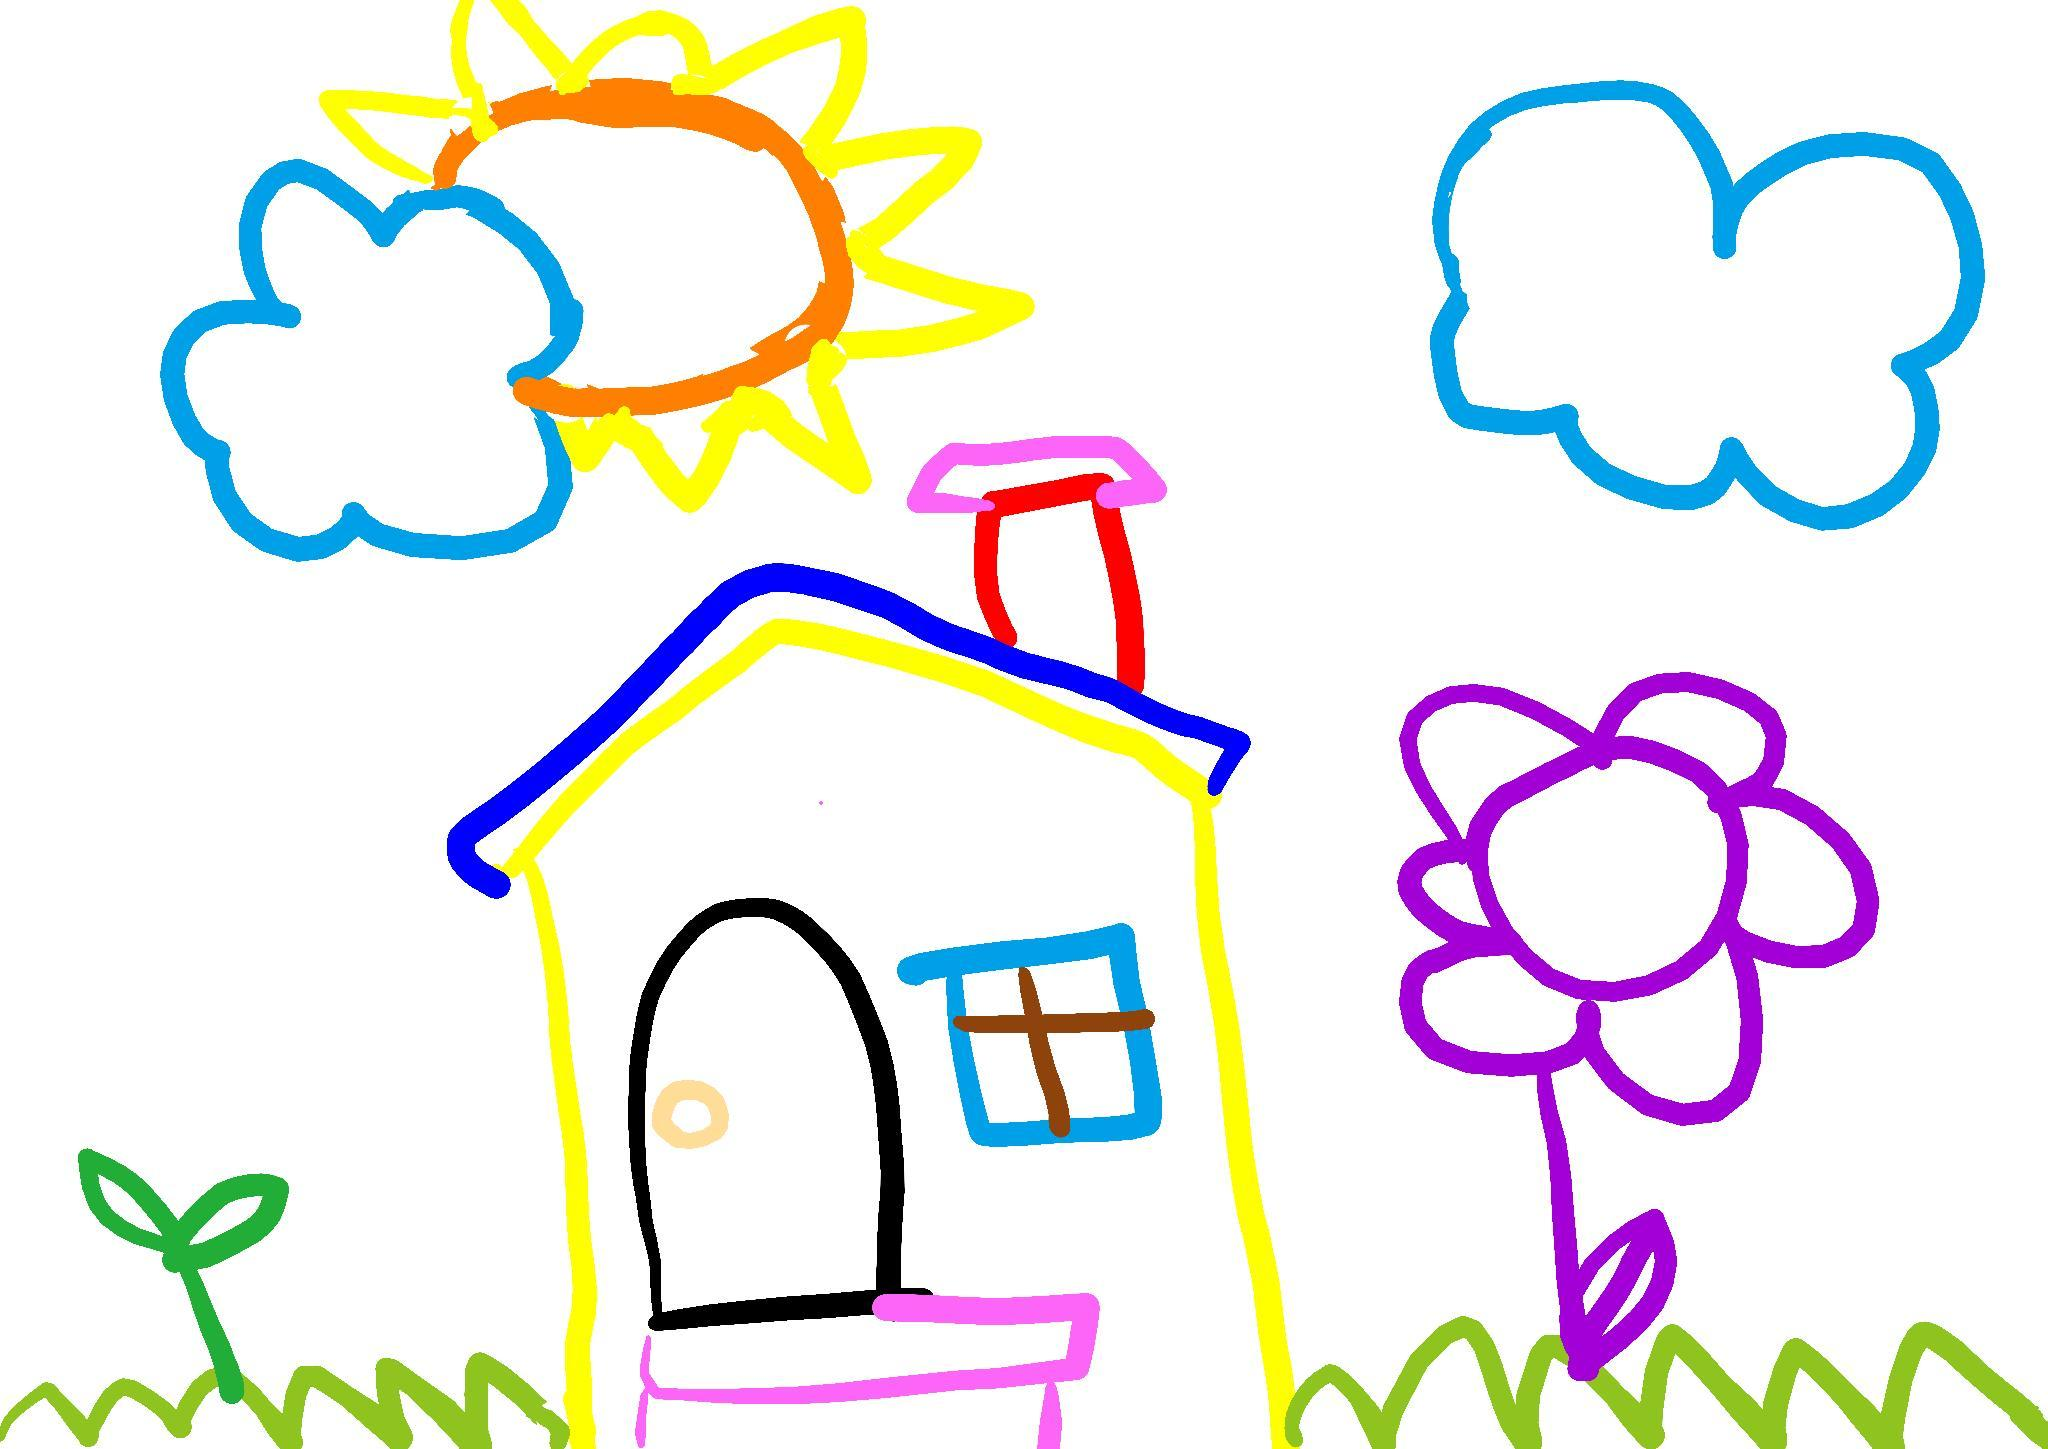chimney: (908, 436, 1167, 690)
door: (638, 905, 881, 1313)
house: (445, 436, 1295, 1447)
roof: (447, 561, 1251, 899)
sun: (320, 0, 1033, 507)
wall: (539, 648, 1262, 1449)
window: (899, 924, 1160, 1148)
